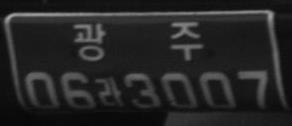0: (199, 70, 235, 109), (23, 71, 59, 108), (162, 72, 197, 110)
3: (125, 73, 161, 108)
6: (59, 71, 94, 109)
7: (237, 70, 269, 110)
광주_D: (72, 20, 203, 61)
라: (94, 75, 124, 108)
